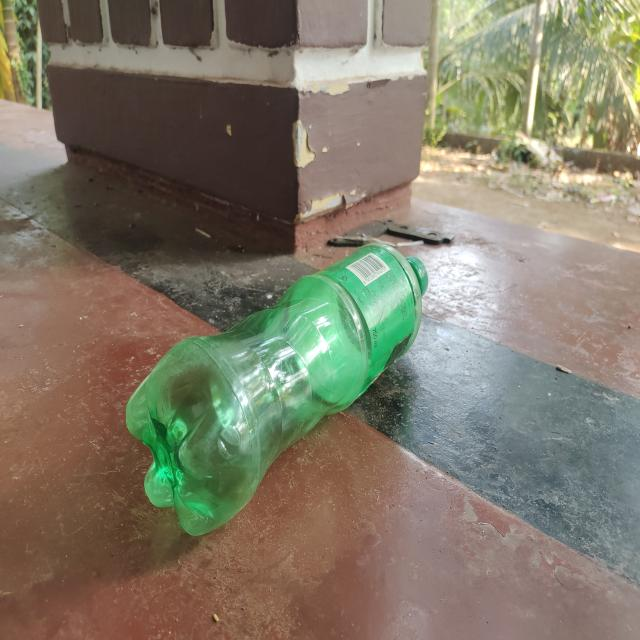plastic: (124, 237, 432, 538)
